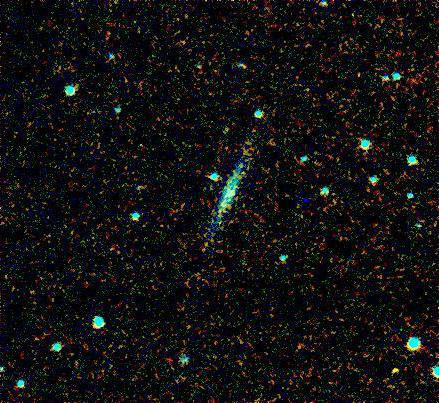star: (378, 355, 408, 385)
